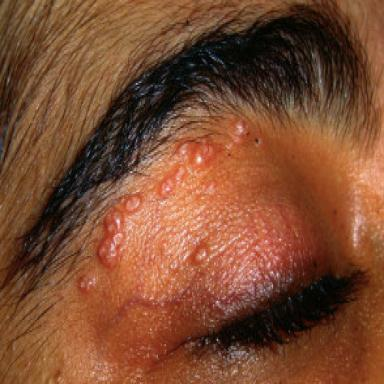Molluscum-Contagiosum: (97, 210, 124, 268), (175, 137, 217, 167), (221, 119, 250, 149), (160, 166, 183, 197), (191, 240, 209, 265), (79, 276, 96, 293), (125, 195, 141, 212), (227, 366, 238, 375)
